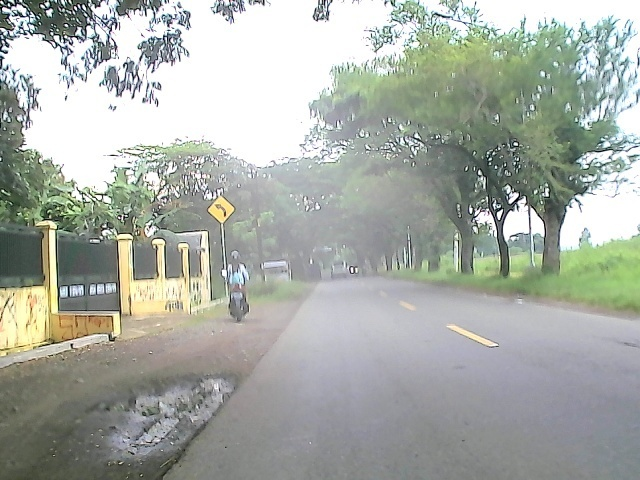Tikungan ke kiri: (206, 194, 237, 224)
